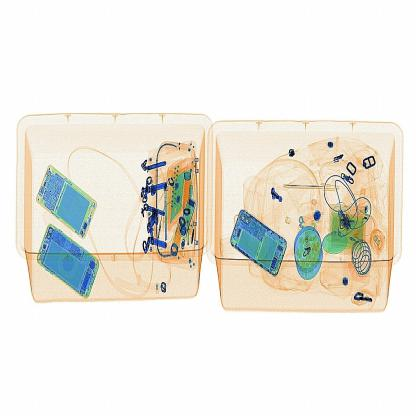pliers: (278, 170, 340, 202)
